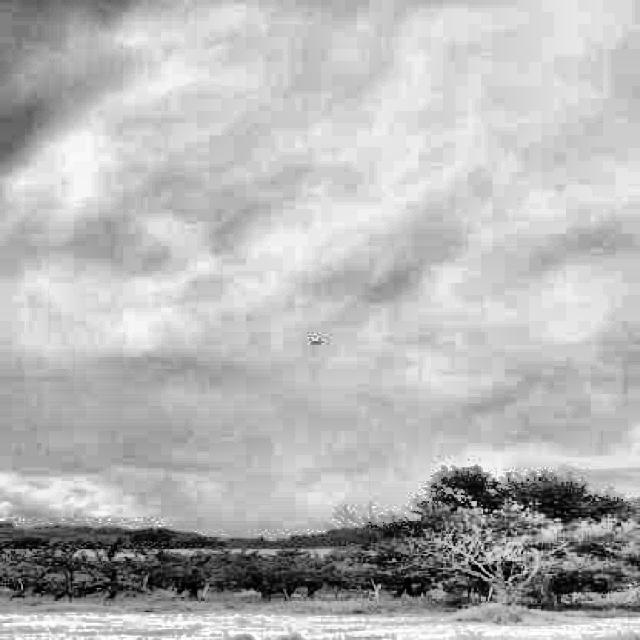V22: (309, 339, 328, 346)
